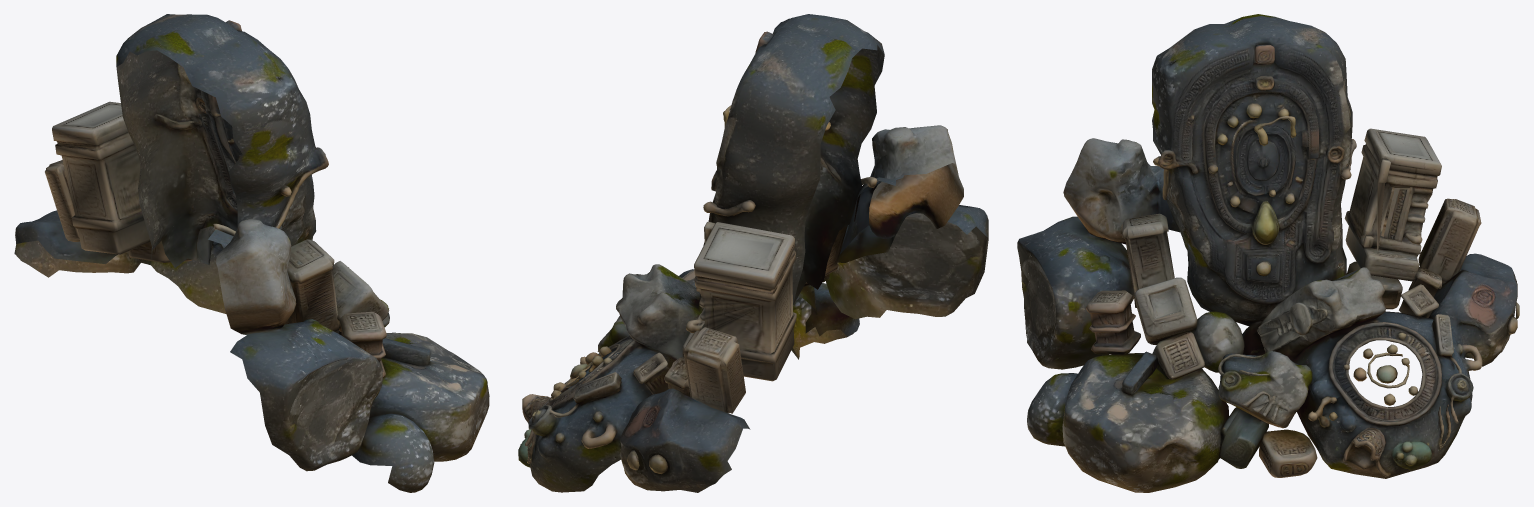
The model's file is jun_boulder_ruin_mix_c.glb.
The picture shows the model from 3 angles, left to right: view 1: azimuth 30°, elevation 25°; view 2: azimuth 150°, elevation 25°; view 3: azimuth 270°, elevation 25°; orthographic projection. The views are drawn at different scales.
Parts seen in each view (by area): view 1: tripo_node_818d9c6d-30bf-4788-a4f3-a3156c601ce0; view 2: tripo_node_818d9c6d-30bf-4788-a4f3-a3156c601ce0; view 3: tripo_node_818d9c6d-30bf-4788-a4f3-a3156c601ce0.
Part boxes in pixels (x1,y1,x2,y2): tripo_node_818d9c6d-30bf-4788-a4f3-a3156c601ce0: (14,14,489,492); tripo_node_818d9c6d-30bf-4788-a4f3-a3156c601ce0: (518,14,988,492); tripo_node_818d9c6d-30bf-4788-a4f3-a3156c601ce0: (1017,14,1519,492).
Size of the model in its own units: 0.6035 by 0.8457 by 0.998.
Materials: 1 (1 with a texture image).
